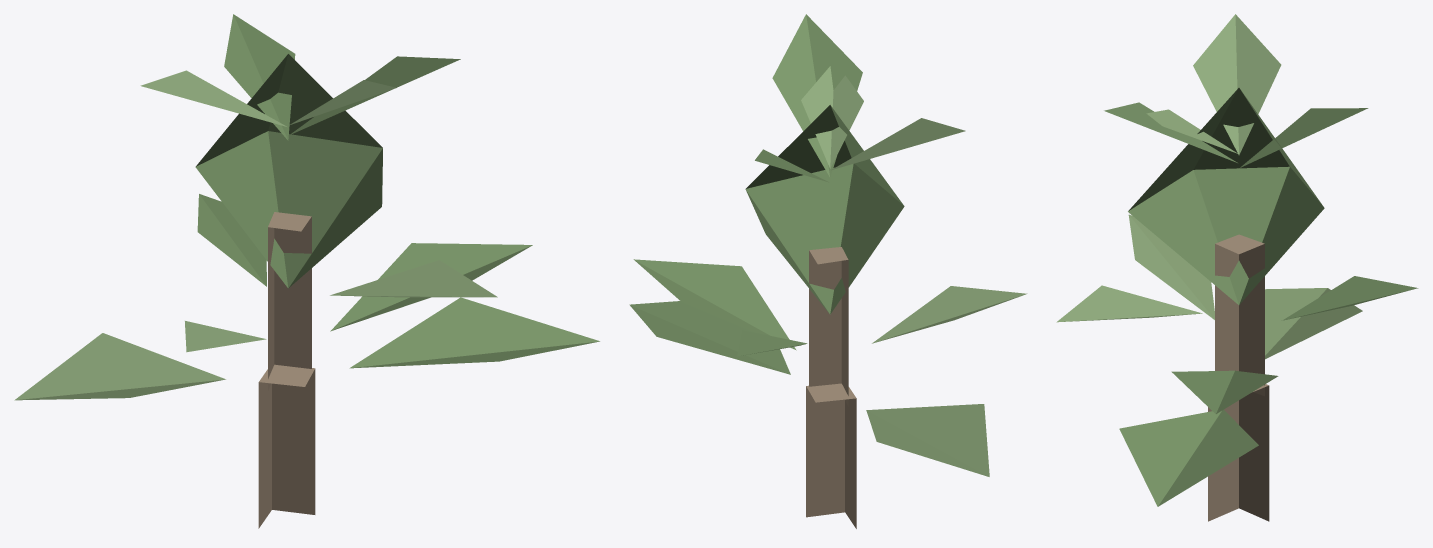
File: shu.luoye@seedling__summer.glb
3 renders of one model, left to right at view 1: azimuth 30°, elevation 25°; view 2: azimuth 150°, elevation 25°; view 3: azimuth 270°, elevation 25°, orthographic. The views are drawn at different scales.
Visible parts, largest first — view 1: shu.luoye@seedling__summer; view 2: shu.luoye@seedling__summer; view 3: shu.luoye@seedling__summer.
Part boxes in pixels (left/top/right/bottom): shu.luoye@seedling__summer: left=14, top=14, right=599, bottom=528; shu.luoye@seedling__summer: left=629, top=14, right=1027, bottom=528; shu.luoye@seedling__summer: left=1056, top=14, right=1418, bottom=521.
Bounding box in the file's own units: 1.76 × 1.67 × 1.2.
